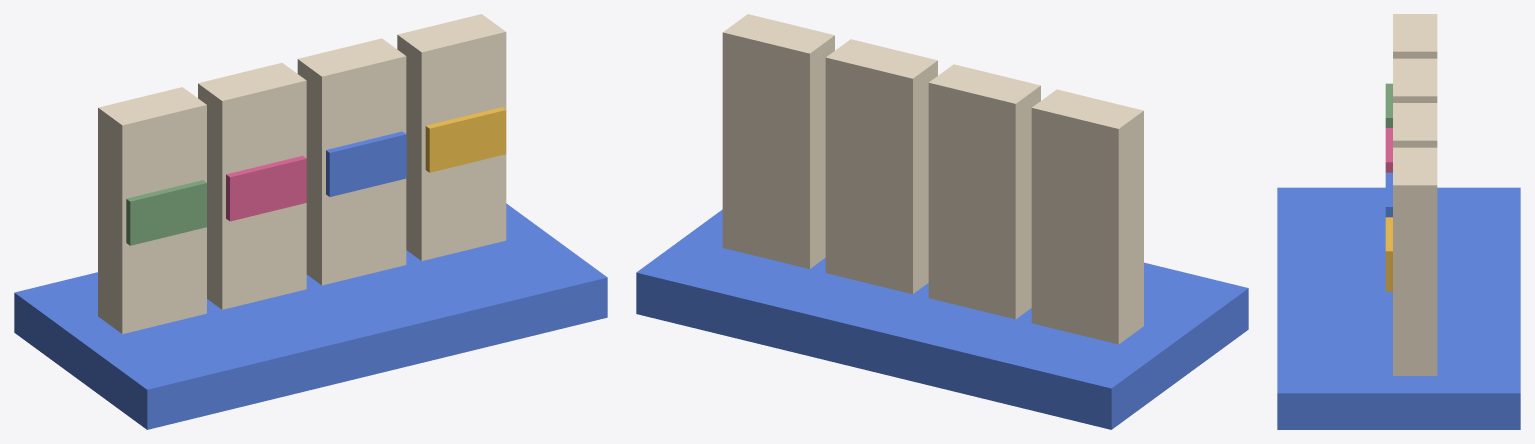
3 renders of one model, left to right at view 1: azimuth 30°, elevation 25°; view 2: azimuth 150°, elevation 25°; view 3: azimuth 270°, elevation 25°, orthographic. The views are drawn at different scales.
Parts seen in each view (by area): view 1: Brochure holder, Folded information sheet, Folded information sheet.003, Folded information sheet.002, Folded information sheet.001, Cover color band.003, Cover color band, Cover color band.002, Cover color band.001; view 2: Brochure holder, Folded information sheet, Folded information sheet.001, Folded information sheet.002, Folded information sheet.003; view 3: Brochure holder, Folded information sheet.003, Folded information sheet, Folded information sheet.002, Folded information sheet.001, Cover color band.003, Cover color band.002, Cover color band.001, Cover color band.
Boxes of the visible parts, x1,y1,x2,y2 form: Brochure holder: [14, 203, 607, 429]; Folded information sheet: [98, 87, 206, 334]; Folded information sheet.003: [397, 14, 506, 260]; Folded information sheet.002: [297, 38, 406, 285]; Folded information sheet.001: [198, 63, 306, 309]; Cover color band.003: [425, 107, 506, 172]; Cover color band: [126, 180, 206, 245]; Cover color band.002: [326, 131, 406, 196]; Cover color band.001: [226, 155, 306, 221]; Brochure holder: [636, 209, 1248, 429]; Folded information sheet: [1031, 89, 1143, 344]; Folded information sheet.001: [928, 64, 1040, 319]; Folded information sheet.002: [825, 39, 937, 294]; Folded information sheet.003: [722, 14, 834, 268]; Brochure holder: [1277, 187, 1520, 429]; Folded information sheet.003: [1393, 147, 1437, 375]; Folded information sheet: [1393, 14, 1437, 58]; Folded information sheet.002: [1393, 103, 1437, 147]; Folded information sheet.001: [1393, 58, 1437, 102]; Cover color band.003: [1385, 217, 1392, 291]; Cover color band.002: [1385, 172, 1392, 217]; Cover color band.001: [1385, 128, 1392, 172]; Cover color band: [1385, 83, 1392, 127].
Bounding box in the file's own units: 0.6 × 0.31 × 0.3.
1 material, 1 textured.
